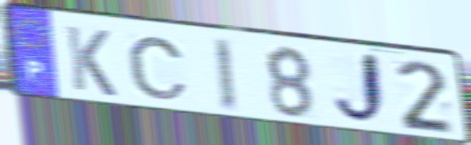2: (393, 59, 459, 136)
8: (264, 44, 317, 119)
C: (125, 34, 192, 102)
I: (210, 36, 240, 115)
J: (330, 50, 390, 129)
K: (62, 23, 120, 100)
